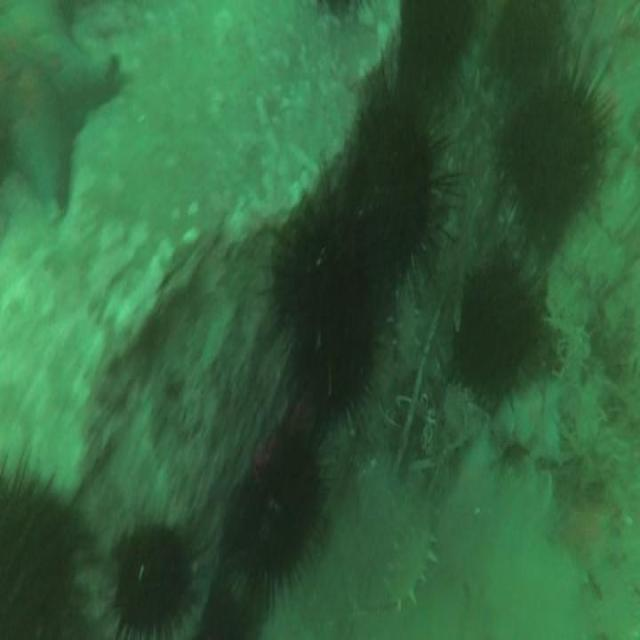echinus: (276, 207, 377, 416), (235, 442, 321, 596), (507, 89, 601, 229), (355, 126, 439, 275), (1, 486, 78, 640), (457, 258, 536, 404), (116, 532, 190, 629), (399, 2, 473, 90)
holothurian: (387, 520, 437, 605)
starfish: (0, 0, 117, 205)
